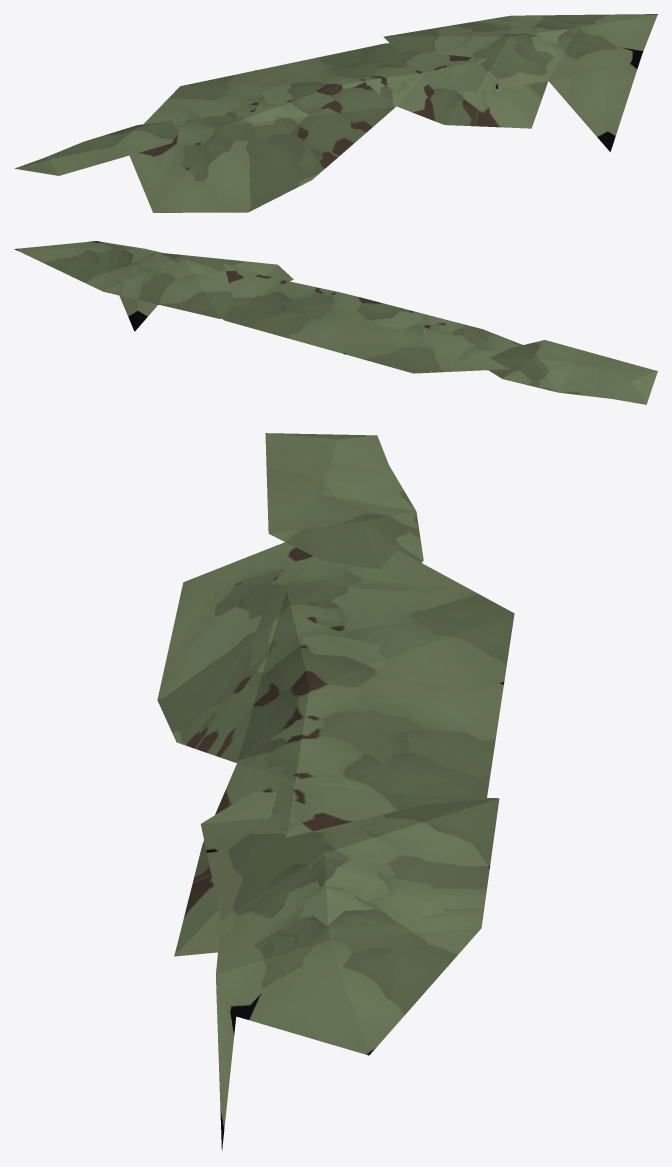
Rendered from SM_Gen_Env_Ivy_Draped_03.gltf.
The picture shows the model from 3 angles, top to bottom: view 1: azimuth 30°, elevation 25°; view 2: azimuth 150°, elevation 25°; view 3: azimuth 270°, elevation 25°; orthographic projection. The views are drawn at different scales.
Parts seen in each view (by area): view 1: SM_Gen_Env_Ivy_Draped_03; view 2: SM_Gen_Env_Ivy_Draped_03; view 3: SM_Gen_Env_Ivy_Draped_03.
Boxes of the visible parts, x1,y1,x2,y2 form: SM_Gen_Env_Ivy_Draped_03: (14, 14, 657, 212); SM_Gen_Env_Ivy_Draped_03: (14, 241, 657, 404); SM_Gen_Env_Ivy_Draped_03: (157, 433, 514, 1150).
Size of the model in its own units: 3.11 by 0.5329 by 0.7581.
1 material, 1 textured.
